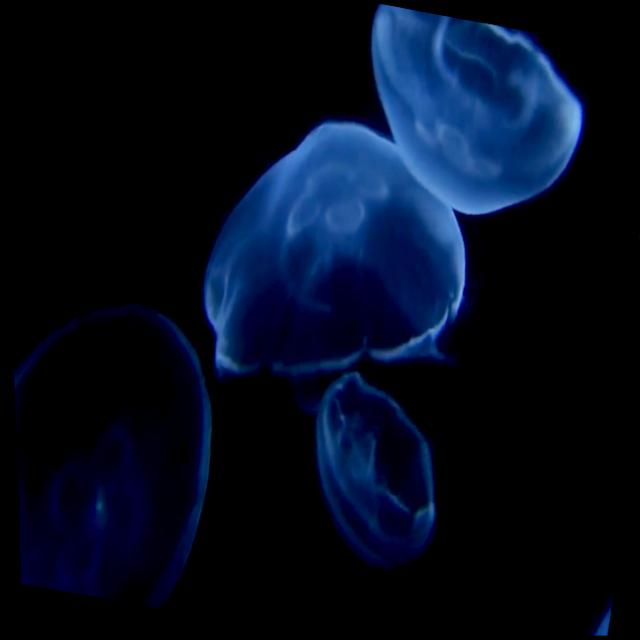Moon-jellyfish: (201, 122, 462, 382), (11, 303, 207, 610), (370, 3, 582, 215), (311, 371, 431, 569)
